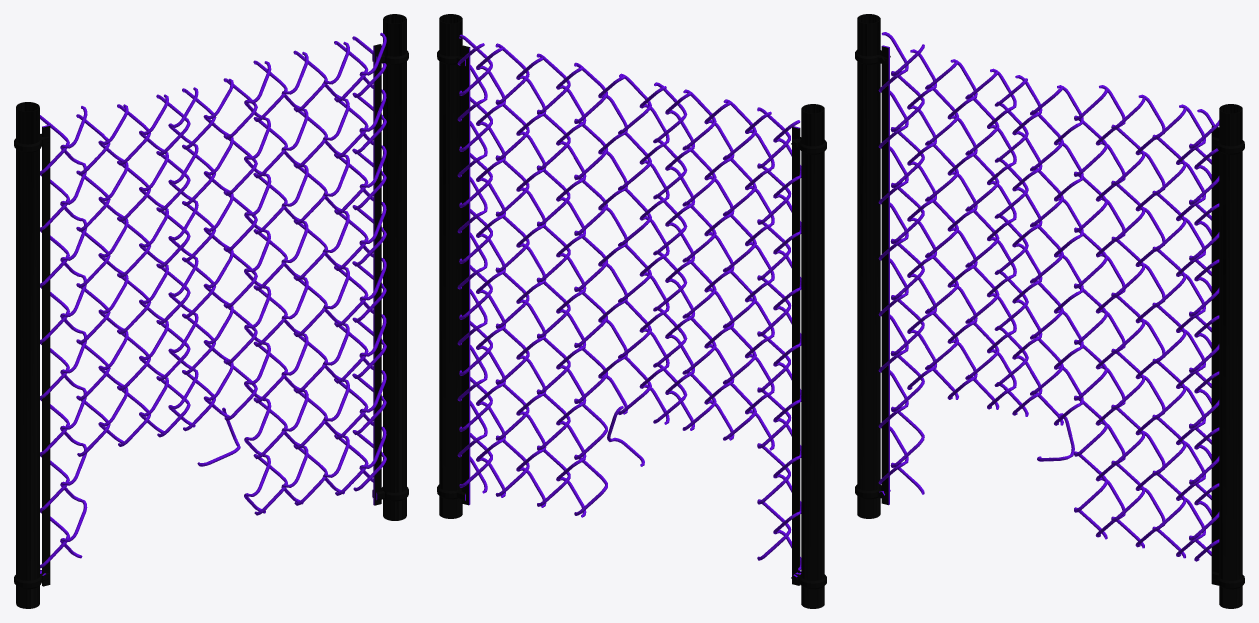
File: BrokenChainLink_KW.fbx
3 renders of one model, left to right at view 1: azimuth 30°, elevation 25°; view 2: azimuth 150°, elevation 25°; view 3: azimuth 330°, elevation 25°, orthographic.
Parts seen in each view (by area): view 1: BrokenChainLink_KW; view 2: BrokenChainLink_KW; view 3: BrokenChainLink_KW.
Boxes of the visible parts, box(x1,y1,x2,y2) form: BrokenChainLink_KW: box(14, 14, 408, 608); BrokenChainLink_KW: box(437, 14, 826, 608); BrokenChainLink_KW: box(855, 14, 1244, 608).
Size of the model in its own units: 165 by 201 by 13.71.
